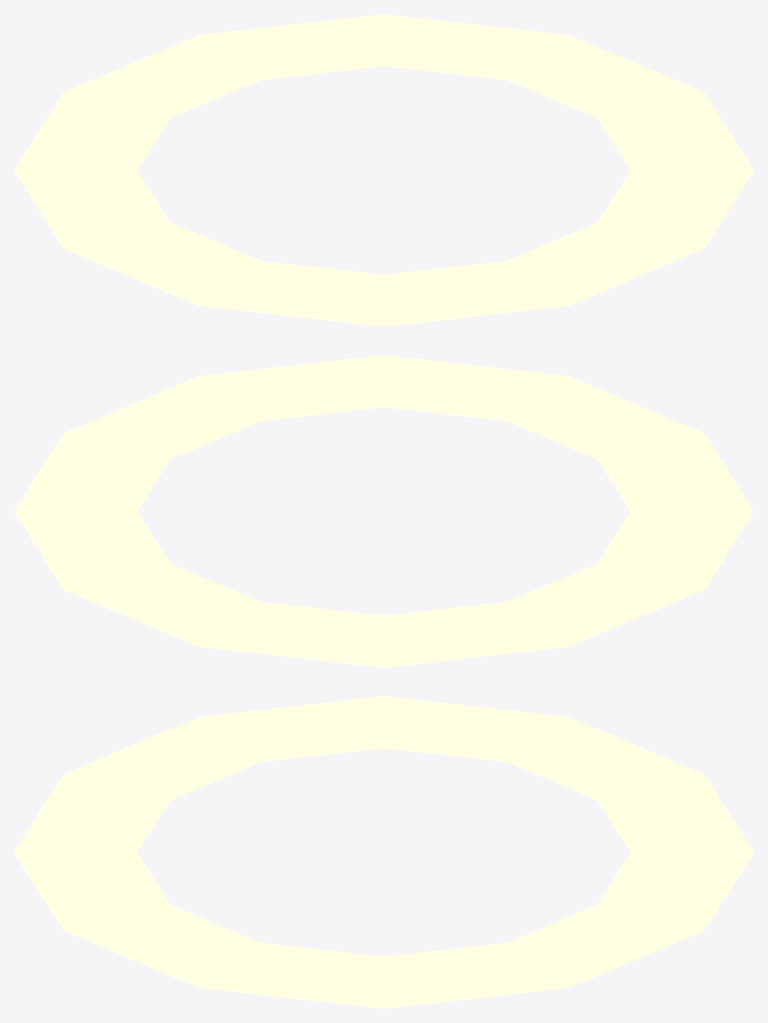
Rendered from mark.glb.
The picture shows the model from 3 angles, top to bottom: view 1: azimuth 30°, elevation 25°; view 2: azimuth 150°, elevation 25°; view 3: azimuth 270°, elevation 25°; orthographic projection.
Visible parts, largest first — view 1: mark; view 2: mark; view 3: mark.
Part boxes in pixels (x1=…): mark: x1=14, y1=14, x2=753, y2=326; mark: x1=14, y1=355, x2=753, y2=667; mark: x1=14, y1=696, x2=753, y2=1008.
Bounding box in the file's own units: 0.09 × 0 × 0.09.
